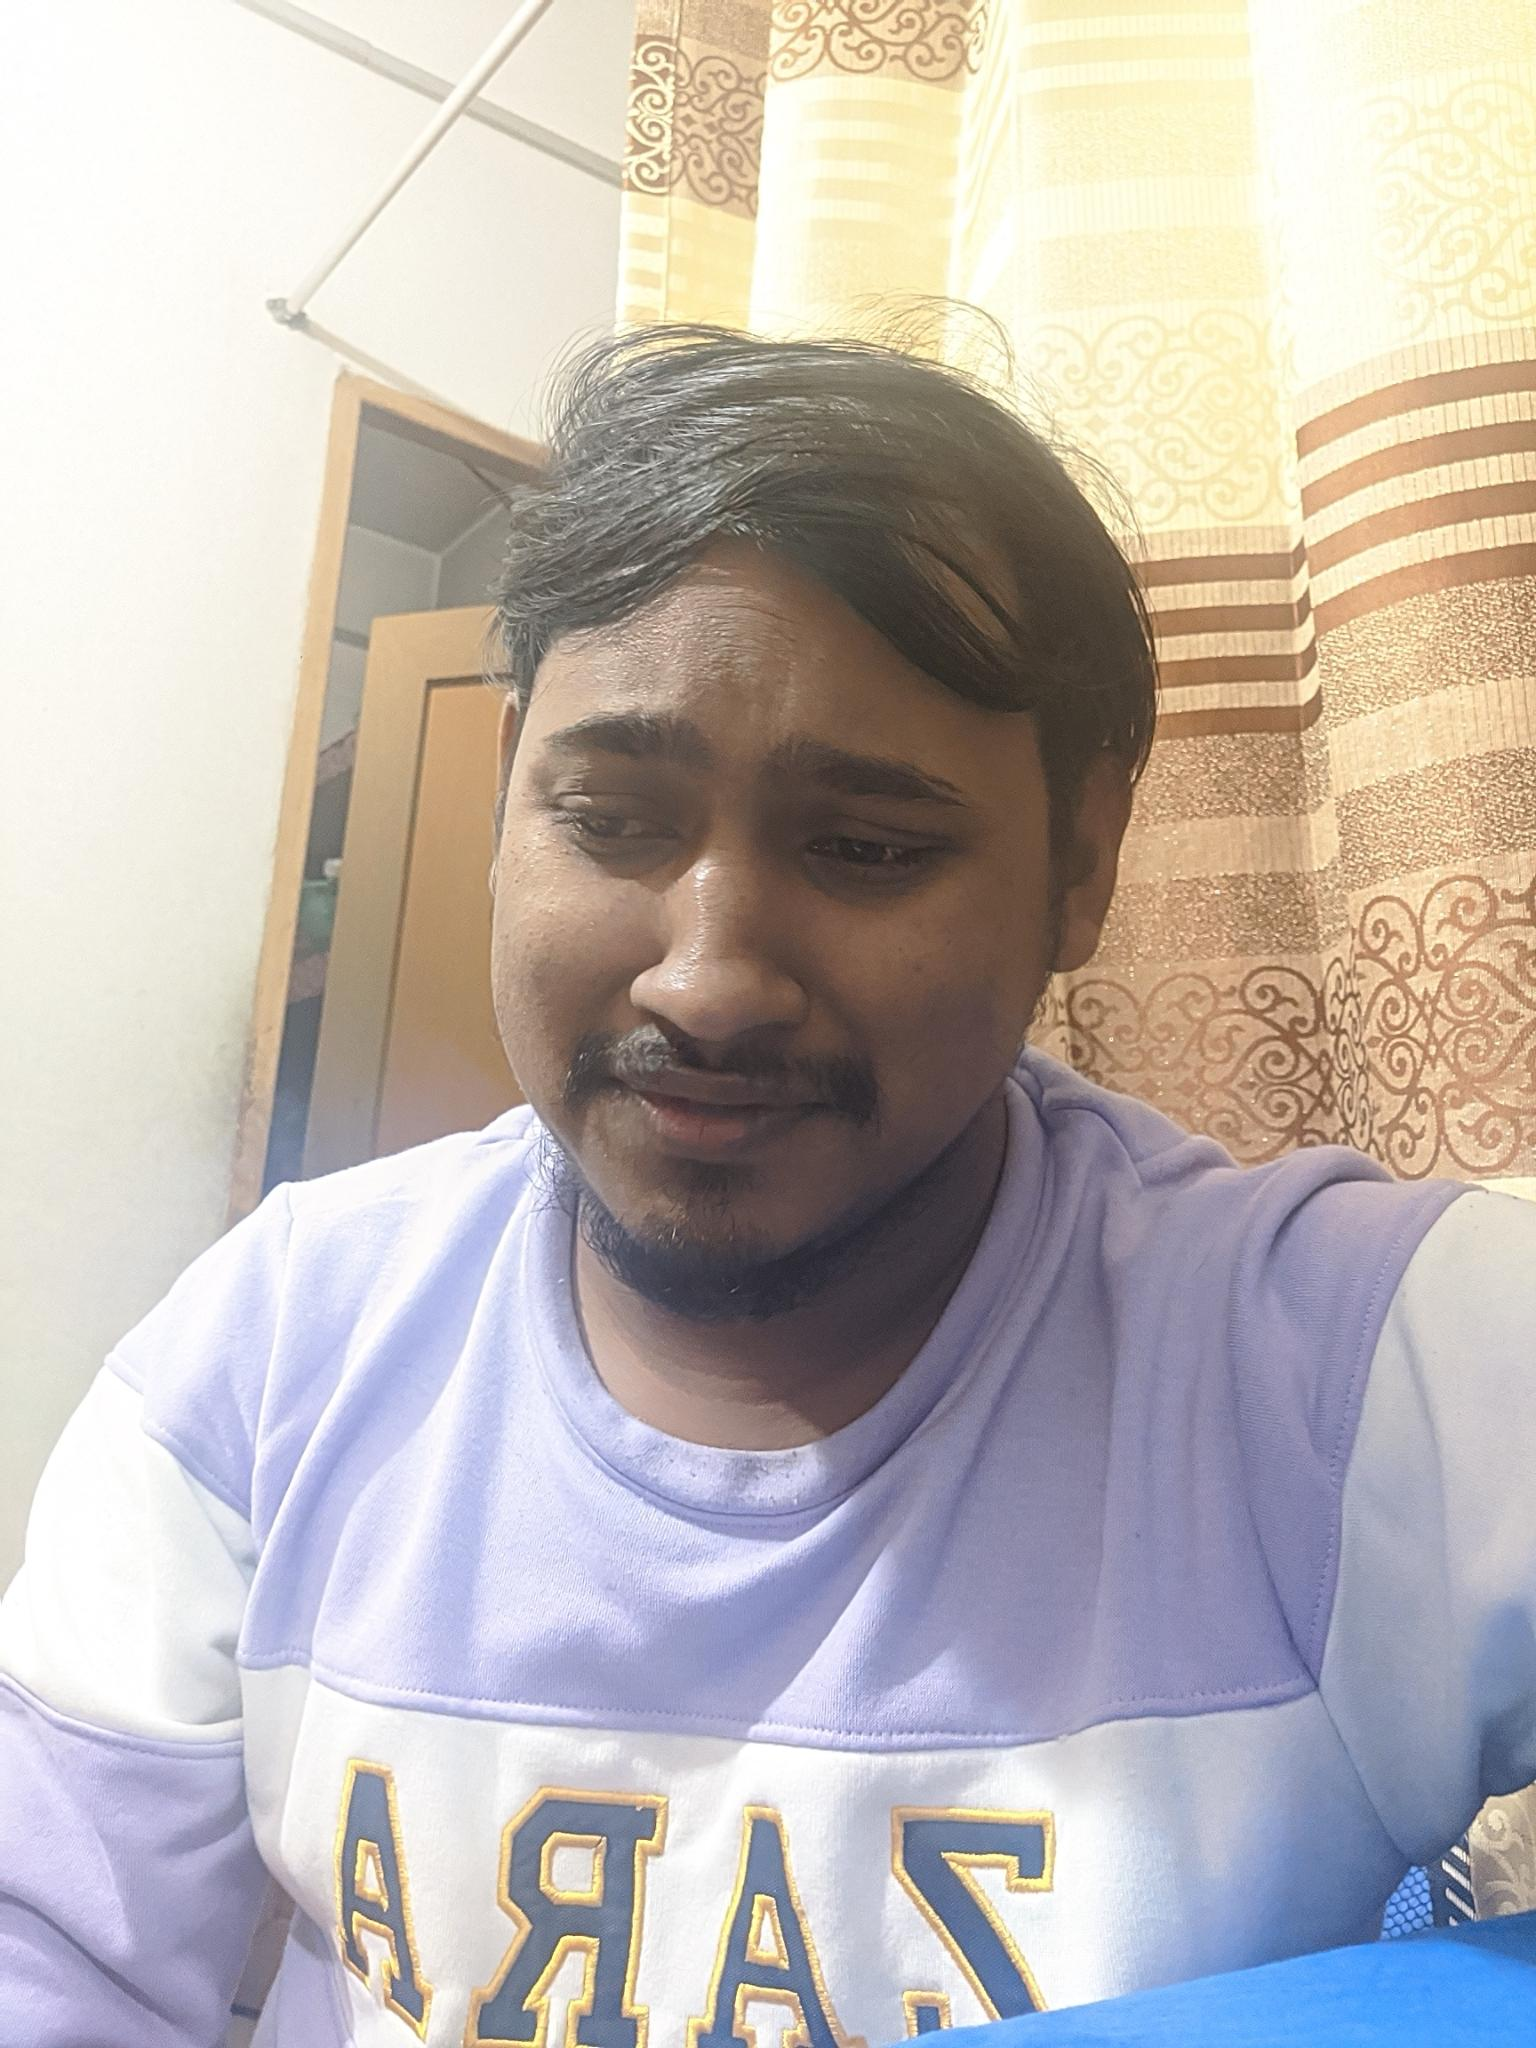Sad: (490, 632, 1020, 1293)
